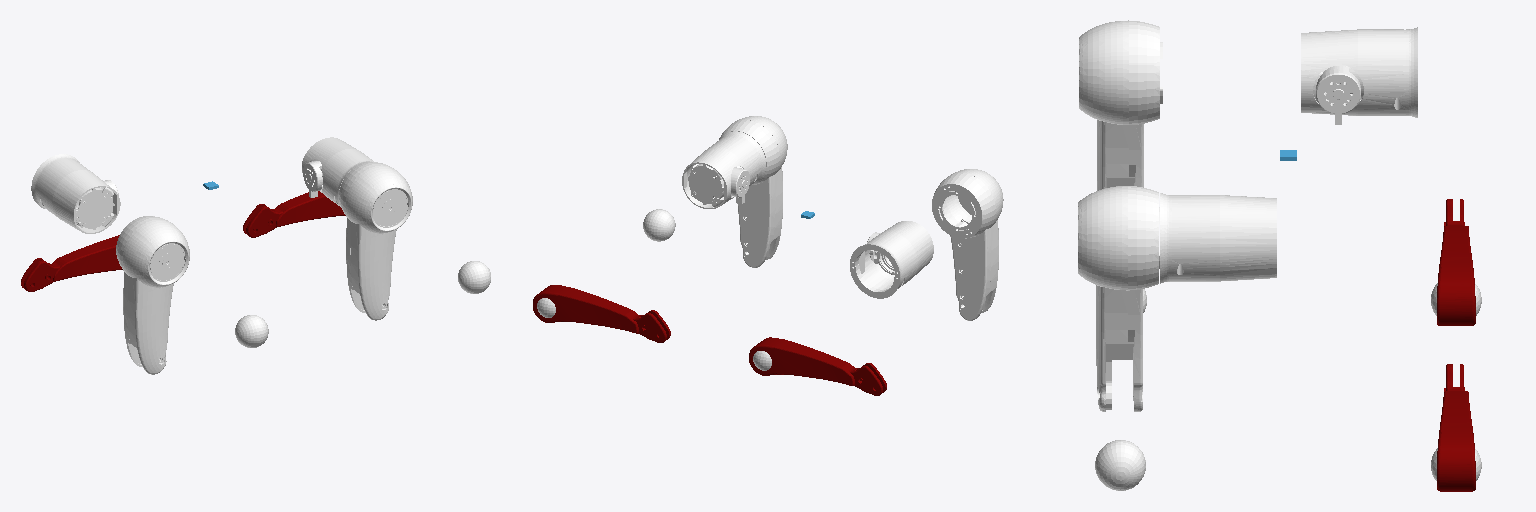
robot.urdf — robot:
<?xml version="1.0" ?>
<!-- =================================================================================== -->
<!-- |    This document was autogenerated by xacro from [local-path]/ros_ws/src/legged_control/legged_examples/legged_ngergo/legged_ngergo_description/urdf/robot.xacro | -->
<!-- |    EDITING THIS FILE BY HAND IS NOT RECOMMENDED                                 | -->
<!-- =================================================================================== -->
<robot name="robot">
  <material name="black">
    <color rgba="0.0 0.0 0.0 1.0"/>
  </material>
  <material name="blue">
    <color rgba="0.0 0.0 0.8 1.0"/>
  </material>
  <material name="green">
    <color rgba="0.0 0.8 0.0 1.0"/>
  </material>
  <material name="grey">
    <color rgba="0.2 0.2 0.2 1.0"/>
  </material>
  <material name="silver">
    <color rgba="0.9137254901960784 0.9137254901960784 0.8470588235294118 1.0"/>
  </material>
  <material name="orange">
    <color rgba="1.0 0.4235294117647059 0.0392156862745098 1.0"/>
  </material>
  <material name="brown">
    <color rgba="0.8705882352941177 0.8117647058823529 0.7647058823529411 1.0"/>
  </material>
  <material name="gold">
    <color rgba="0.94901960784 0.75294117647 0.33725490196 0.0"/> 
  </material>
  <material name="red">
  <!-- aa0505 -->
    <!--color rgba="0.66666666667 0.01960784314 0.01960784314 1.0"/-->
    <color rgba="0.54901960784 0.04705882353 0.0431372549  1.0"/>
  </material>
  <material name="white">
    <color rgba="1.0 1.0 1.0 1.0"/>
  </material>
  
  <link name="base">
    <visual>
      <origin rpy="0 0 0" xyz="0 0 0"/>
      <geometry>
        <mesh filename="../mesh_ngergo/trunk.STL" scale="1 1 1"/>
      </geometry>
      <material name="red"/>
    </visual>
    <collision>
      <origin rpy="0 0 0" xyz="0 0 0"/>
      <geometry>
        <!--box size="0.238 0.18 0.1"/-->
        <mesh filename="../mesh_ngergo/trunk.STL" scale="1 1 1"/>
      </geometry>
    </collision>
    <inertial>
      <origin rpy="0 0 0" xyz="0.03164293 0.00124456 0.03218306"/>
      <mass value="5.4752965"/>
      <inertia ixx="0.03315961" ixy="0.00041393" ixz="-0.01397597" iyy="0.08487646" iyz="0.00013335" izz="0.07401286"/>
    </inertial>
  </link>
  <!-- Imu is fixed to the base link -->
  <joint name="unitree_imu_joint" type="fixed">
    <origin rpy="0. 0. 0." xyz="0. 0. 0."/>
    <parent link="base"/>
    <child link="unitree_imu"/>
  </joint>
  <!-- Imu link -->
  <link name="unitree_imu">
    <inertial>
      <mass value="0.01"/>
      <origin rpy="0 0 0" xyz="0 0 0"/>
      <inertia ixx="0.000001" ixy="0" ixz="0" iyy="0.000001" iyz="0" izz="0.000001"/>
    </inertial>
    <visual>
      <origin rpy="0 0 0" xyz="0 0 0"/>
      <geometry>
        <box size="0.015 0.015 0.004"/>
      </geometry>
    </visual>
    <material name="orange">
      <color rgba="255 108 10 255"/>
    </material>
  </link>
  
  <joint name="FR_hip_joint" type="revolute">
    <origin rpy="0 0 0" xyz="0.17185 -0.0436 -0.0"/>
    <parent link="base"/>
    <child link="FR_hip"/>
    <axis xyz="1 0 0"/>
    <dynamics damping="0.0" friction="0.0"/>
    <limit effort="20" lower="-0.34" upper="0.34" velocity="13.25"/>
  </joint>
  <link name="FR_hip">
    <visual>
      <origin rpy="0 0 0" xyz="0 0 0"/>
      <!-- <origin rpy="${pi} 0 0" xyz="0 0 0"/> -->
      <geometry>
        <mesh filename="../mesh_ngergo/FR_hip_link.STL" scale="1 1 1"/>
      </geometry>
      <material name="white"/>
    </visual>
   
    <inertial>
      <origin rpy="0 0 0" xyz="-0.00181499 -0.00647781 -6.314e-05"/>
      <mass value="0.45381624"/>
      <inertia ixx="0.00033634" ixy="9.86e-06" ixz="-6.5e-07" iyy="0.0002604" iyz="-1.26e-06" izz="0.00036201"/>
    </inertial>
  </link>
  <joint name="FR_thigh_joint" type="revolute">
    <!-- c -->
    <!-- <origin rpy="0 0 0" xyz="0 ${thigh_offset*mirror} 0"/> -->
    <origin rpy="0 0.0 0" xyz="0 -0.1043 0"/>
    <parent link="FR_hip"/>
    <child link="FR_thigh"/>
    <!-- <axis xyz="0 -1 0"/> -->
    <axis xyz="0 1 0"/>
    <dynamics damping="0.0" friction="0.0"/>
    <limit effort="20" lower="-1" upper="2.64" velocity="13.25"/>
  </joint>
  <link name="FR_thigh">
    <visual>
      <origin rpy="0 0 0" xyz="0 0 0"/>
      <geometry>
        <mesh filename="../mesh_ngergo/FR_thigh_link.STL"  scale="1 1 1"/>
      </geometry>
      <material name="white"/>
    </visual>
    <collision>
      <origin rpy="0 1.5707963267948966 0" xyz="0 0 -0.07511"/>
      <geometry>
        <box size="0.15022 0.03 0.03"/>
      </geometry>
    </collision>
    <!-- <collision>
      <origin rpy="1.5707963267948966 0 0" xyz="0 0 0"/>
      <geometry>
        <cylinder length="0.035" radius="0.035"/>
      </geometry>
    </collision> -->
    <inertial>
      <origin rpy="0 0 0" xyz="-0.00256023 0.02066587 -0.01932269"/>
      <mass value="0.71506207"/>
      <inertia ixx="0.00189952" ixy="-4.028e-05" ixz="-0.00011453" iyy="0.00162545" iyz="-0.0002761" izz="0.00071971"/>
    </inertial>
  </link>
  <joint name="FR_calf_joint" type="revolute">
    <!-- cc -->
    <origin rpy="0 0 0" xyz="0 0 -0.15022"/>
    <parent link="FR_thigh"/>
    <child link="FR_calf"/>
    <axis xyz="0 1 0"/>
    <dynamics damping="0.0" friction="0.0"/>
    <limit effort="20" lower="-2.64" upper="-0.5" velocity="13.25"/>
  </joint>
  <link name="FR_calf">
    <visual>
      <origin rpy="0 0 0" xyz="0 0 0"/>
      <geometry>
        <mesh filename="../mesh_ngergo/FR_calf_link.STL" scale="1 1 1"/>
      </geometry>
      <material name="red"/>
    </visual>
    <collision>
      <origin rpy="0 1.5707963267948966 0" xyz="0 0 -0.074965"/>
      <geometry>
        <box size="0.14993 0.018 0.015"/>
      </geometry>
    </collision>
    <inertial>
      <origin rpy="0 0 0" xyz="0.00311164 -0.00026025 -0.0875749"/>
      <mass value="0.1160051"/>
      <inertia ixx="0.00036493" ixy="-6e-08" ixz="7.1e-07" iyy="0.00036973" iyz="2.97e-06" izz="2.582e-05"/>
    </inertial>
  </link>
  <joint name="FR_foot_fixed" type="fixed" dont_collapse="true">
    <origin rpy="0 0 0" xyz="0 0 -0.14993"/>
    <parent link="FR_calf"/>
    <child link="FR_foot"/>
  </joint>
  <link name="FR_foot">
    <visual>
      <origin rpy="0 0 0" xyz="0 0 0"/>
      <geometry>
        <sphere radius="0.02249"/>
        <!-- <mesh filename="package://legged_newgo_description/meshes/$(arg robot_type)/FL_toe_link.STL" scale="1 1 1"/> -->
      </geometry>
      <material name="white"/>
    </visual>
    <collision>
      <origin rpy="0 0 0" xyz="0 0 0"/>
      <geometry>
        <sphere radius="0.02249"/>
      </geometry>
    </collision>
    <inertial>
      <mass value="0.05"/>
      <inertia ixx="1.0116002e-05" ixy="0.0" ixz="0.0" iyy="1.0116002e-05" iyz="0.0" izz="1.0116002e-05"/>
    </inertial>
  </link>
  
  <joint name="FL_hip_joint" type="revolute">
    <origin rpy="0 0 0" xyz="0.17185 0.0436 -0.0"/>
    <parent link="base"/>
    <child link="FL_hip"/>
    <axis xyz="1 0 0"/>
    <dynamics damping="0.0" friction="0.0"/>
    <limit effort="20" lower="-0.34" upper="0.34" velocity="13.25"/>
  </joint>
  <link name="FL_hip">
    <visual>
      <origin rpy="0 0 0" xyz="0 0 0"/>
      <geometry>
        <mesh filename="../mesh_ngergo/FL_hip_link.STL" scale="1 1 1"/>
      </geometry>
      <material name="white"/>
    </visual>
    
    <inertial>
      <origin rpy="0 0 0" xyz="-0.00181499 0.00647781 -6.314e-05"/>
      <mass value="0.45381624"/>
      <inertia ixx="0.00033634" ixy="-9.86e-06" ixz="-6.5e-07" iyy="0.0002604" iyz="1.26e-06" izz="0.00036201"/>
    </inertial>
  </link>
  <joint name="FL_thigh_joint" type="revolute">
    <!-- c -->
    <!-- <origin rpy="0 0 0" xyz="0 ${thigh_offset*mirror} 0"/> -->
    <origin rpy="0 0.0 0" xyz="0 0.1034 0"/>
    <parent link="FL_hip"/>
    <child link="FL_thigh"/>
    <!-- <axis xyz="0 -1 0"/> -->
    <axis xyz="0 1 0"/>
    <dynamics damping="0.0" friction="0.0"/>
    <limit effort="20" lower="-1" upper="2.64" velocity="13.25"/>
  </joint>
  <link name="FL_thigh">
    <visual>
      <origin rpy="0 0 0" xyz="0 0 0"/>
      <geometry>
        <mesh filename="../mesh_ngergo/FL_thigh_link.STL" scale="1 1 1"/>
      </geometry>
      <material name="white"/>
    </visual>
    <collision>
      <origin rpy="0 1.5707963267948966 0" xyz="0 0 -0.07511"/>
      <geometry>
        <box size="0.15022 0.03 0.03"/>
      </geometry>
    </collision>
    
    <inertial>
      <origin rpy="0 0 0" xyz="-0.00256023 -0.02066587 -0.01932269"/>
      <mass value="0.71506207"/>
      <inertia ixx="0.00189952" ixy="4.028e-05" ixz="-0.00011453" iyy="0.00162545" iyz="0.0002761" izz="0.00071971"/>
    </inertial>
  </link>
  <joint name="FL_calf_joint" type="revolute">
    <!-- cc -->
    <origin rpy="0 0 0" xyz="0 0 -0.15022"/>
    <parent link="FL_thigh"/>
    <child link="FL_calf"/>
    <axis xyz="0 1 0"/>
    <dynamics damping="0.0" friction="0.0"/>
    <limit effort="20" lower="-2.64" upper="-0.5" velocity="13.25"/>
  </joint>
  <link name="FL_calf">
    <visual>
      <origin rpy="0 0 0" xyz="0 0 0"/>
      <geometry>
        <mesh filename="../mesh_ngergo/FL_calf_link.STL" scale="1 1 1"/>
      </geometry>
      <material name="red"/>
    </visual>
    <collision>
      <origin rpy="0 1.5707963267948966 0" xyz="0 0 -0.074965"/>
      <geometry>
        <box size="0.14993 0.018 0.015"/>
      </geometry>
    </collision>
    <inertial>
      <origin rpy="0 0 0" xyz="0.00311164 -0.00026025 -0.0875749"/>
      <mass value="0.1160051"/>
      <inertia ixx="0.00036493" ixy="-6e-08" ixz="7.1e-07" iyy="0.00036973" iyz="2.97e-06" izz="2.582e-05"/>
    </inertial>
  </link>
  <joint name="FL_foot_fixed" type="fixed" dont_collapse="true">
    <origin rpy="0 0 0" xyz="0 0 -0.14993"/>
    <parent link="FL_calf"/>
    <child link="FL_foot"/>
  </joint>
  <link name="FL_foot">
    <visual>
      <origin rpy="0 0 0" xyz="0 0 0"/>
      <geometry>
        <sphere radius="0.02249"/>
        <!-- <mesh filename="package://legged_ngergo_description/meshes/$(arg robot_type)/FL_toe_link.STL" scale="1 1 1"/> -->
      </geometry>
      <material name="white"/>
    </visual>
    <collision>
      <origin rpy="0 0 0" xyz="0 0 0"/>
      <geometry>
        <sphere radius="0.02249"/>
      </geometry>
    </collision>
    
    <inertial>
      <mass value="0.05"/>
      <inertia ixx="1.0116002e-05" ixy="0.0" ixz="0.0" iyy="1.0116002e-05" iyz="0.0" izz="1.0116002e-05"/>
    </inertial>
  </link>
  
  
  <joint name="RR_hip_joint" type="revolute">
    <origin rpy="0 0 0" xyz="-0.17185 -0.0436 -0.0"/>
    <parent link="base"/>
    <child link="RR_hip"/>
    <axis xyz="1 0 0"/>
    <dynamics damping="0.0" friction="0.0"/>
    <limit effort="20" lower="-0.34" upper="0.34" velocity="13.25"/>
  </joint>
  <link name="RR_hip">
    <visual>
      <origin rpy="0 0 3.141592653589793" xyz="0 0 0"/>
      <!-- <origin rpy="${pi} ${pi} 0" xyz="0 0 0"/> -->
      <geometry>
        <mesh filename="../mesh_ngergo/FL_hip_link.STL" scale="1 1 1"/>
      </geometry>
      <material name="white"/>
    </visual>
    
    <inertial>
      <origin rpy="0 0 0" xyz="0.00181499 -0.00647781 -6.314e-05"/>
      <mass value="0.45381624"/>
      <inertia ixx="0.00033634" ixy="-9.86e-06" ixz="6.5e-07" iyy="0.0002604" iyz="-1.26e-06" izz="0.00036201"/>
    </inertial>
  </link>
  <joint name="RR_thigh_joint" type="revolute">
    <!-- c -->
    <!-- <origin rpy="0 0 0" xyz="0 ${thigh_offset*mirror} 0"/> -->
    <origin rpy="0 0.0 0" xyz="0 -0.1034 0"/>
    <parent link="RR_hip"/>
    <child link="RR_thigh"/>
    <!-- <axis xyz="0 -1 0"/> -->
    <axis xyz="0 1 0"/>
    <dynamics damping="0.0" friction="0.0"/>
    <limit effort="20" lower="-1" upper="2.64" velocity="13.25"/>
  </joint>
  <link name="RR_thigh">
    <visual>
      <origin rpy="0 0 0" xyz="0 0 0"/>
      <geometry>
        <mesh filename="../mesh_ngergo/FR_thigh_link.STL" scale="1 1 1"/>
      </geometry>
      <material name="white"/>
    </visual>
    <collision>
      <origin rpy="0 1.5707963267948966 0" xyz="0 0 -0.07511"/>
      <!-- <origin rpy="0 ${pi/2.0+0.1} 0" xyz="0 0 ${-thigh_length/2.0}"/> -->
      <geometry>
        <box size="0.15022 0.03 0.03"/>
      </geometry>
    </collision>
    
    <inertial>
      <origin rpy="0 0 0" xyz="-0.00256023 0.02066587 -0.01932269"/>
      <mass value="0.71506207"/>
      <inertia ixx="0.00189952" ixy="-4.028e-05" ixz="-0.00011453" iyy="0.00162545" iyz="-0.0002761" izz="0.00071971"/>
    </inertial>
  </link>
  <joint name="RR_calf_joint" type="revolute">
    <!-- cc -->
    <origin rpy="0 0 0" xyz="0 0 -0.15022"/>
    <parent link="RR_thigh"/>
    <child link="RR_calf"/>
    <axis xyz="0 1 0"/>
    <dynamics damping="0.0" friction="0.0"/>
    <limit effort="20" lower="-2.64" upper="-0.5" velocity="13.25"/>
  </joint>
  <link name="RR_calf">
    <visual>
      <origin rpy="0 0 0" xyz="0 0 0"/>
      <geometry>
        <mesh filename="../mesh_ngergo/FR_calf_link.STL" scale="1 1 1"/>
      </geometry>
      <material name="red"/>
    </visual>
    <collision>
      <origin rpy="0 1.5707963267948966 0" xyz="0 0 -0.074965"/>
      <geometry>
        <box size="0.14993 0.018 0.015"/>
      </geometry>
    </collision>
    <inertial>
      <origin rpy="0 0 0" xyz="0.00311164 -0.00026025 -0.0875749"/>
      <mass value="0.1160051"/>
      <inertia ixx="0.00036493" ixy="-6e-08" ixz="7.1e-07" iyy="0.00036973" iyz="2.97e-06" izz="2.582e-05"/>
    </inertial>
  </link>
  <joint name="RR_foot_fixed" type="fixed" dont_collapse="true">
    <origin rpy="0 0 0" xyz="0 0 -0.14993"/>
    <parent link="RR_calf"/>
    <child link="RR_foot"/>
  </joint>
  <link name="RR_foot">
    <visual>
      <origin rpy="0 0 0" xyz="0 0 0"/>
      <geometry>
        <sphere radius="0.02249"/>
        <!-- <mesh filename="package://legged_ngergo_description/meshes/$(arg robot_type)/FL_toe_link.STL" scale="1 1 1"/> -->
      </geometry>
      <material name="white"/>
    </visual>
    <collision>
      <origin rpy="0 0 0" xyz="0 0 0"/>
      <geometry>
        <sphere radius="0.02249"/>
      </geometry>
    </collision>
    <inertial>
      <mass value="0.05"/>
      <inertia ixx="1.0116002e-05" ixy="0.0" ixz="0.0" iyy="1.0116002e-05" iyz="0.0" izz="1.0116002e-05"/>
    </inertial>
  </link>
  
  <joint name="RL_hip_joint" type="revolute">
    <origin rpy="0 0 0" xyz="-0.17185 0.0436 -0.0"/>
    <parent link="base"/>
    <child link="RL_hip"/>
    <axis xyz="1 0 0"/>
    <dynamics damping="0.0" friction="0.0"/>
    <limit effort="20" lower="-0.34" upper="0.34" velocity="13.25"/>
  </joint>
  <link name="RL_hip">
    <visual>
      <origin rpy="0 0 3.141592653589793" xyz="0 0 0"/>
      <!-- <origin rpy="0 ${pi} 0" xyz="0 0 0"/> -->
      <geometry>
        <mesh filename="../mesh_ngergo/FR_hip_link.STL" scale="1 1 1"/>
      </geometry>
      <material name="white"/>
    </visual>
    
    <inertial>
      <origin rpy="0 0 0" xyz="0.00181499 0.00647781 -6.314e-05"/>
      <mass value="0.45381624"/>
      <inertia ixx="0.00033634" ixy="9.86e-06" ixz="6.5e-07" iyy="0.0002604" iyz="1.26e-06" izz="0.00036201"/>
    </inertial>
  </link>
  <joint name="RL_thigh_joint" type="revolute">
    <!-- c -->
    <!-- <origin rpy="0 0 0" xyz="0 ${thigh_offset*mirror} 0"/> -->
    <origin rpy="0 0.0 0" xyz="0 0.1034 0"/>
    <parent link="RL_hip"/>
    <child link="RL_thigh"/>
    <!-- <axis xyz="0 -1 0"/> -->
    <axis xyz="0 1 0"/>
    <dynamics damping="0.0" friction="0.0"/>
    <limit effort="20" lower="-1" upper="2.64" velocity="13.25"/>
  </joint>
  <link name="RL_thigh">
    <visual>
      <origin rpy="0 0 0" xyz="0 0 0"/>
      <geometry>
        <mesh filename="../mesh_ngergo/FL_thigh_link.STL" scale="1 1 1"/>
      </geometry>
      <material name="white"/>
    </visual>
    <collision>
      <origin rpy="0 1.5707963267948966 0" xyz="0 0 -0.07511"/>
      <geometry>
        <box size="0.15022 0.03 0.03"/>
      </geometry>
    </collision>
    
    <inertial>
      <origin rpy="0 0 0" xyz="-0.00256023 -0.02066587 -0.01932269"/>
      <mass value="0.71506207"/>
      <inertia ixx="0.00189952" ixy="4.028e-05" ixz="-0.00011453" iyy="0.00162545" iyz="0.0002761" izz="0.00071971"/>
    </inertial>
  </link>
  <joint name="RL_calf_joint" type="revolute">
    <!-- cc -->
    <origin rpy="0 0 0" xyz="0 0 -0.15022"/>
    <parent link="RL_thigh"/>
    <child link="RL_calf"/>
    <axis xyz="0 1 0"/>
    <dynamics damping="0.0" friction="0.0"/>
    <limit effort="20" lower="-2.64" upper="-0.5" velocity="13.25"/>
  </joint>
  <link name="RL_calf">
    <visual>
      <origin rpy="0 0 0" xyz="0 0 0"/>
      <geometry>
        <mesh filename="../mesh_ngergo/FL_calf_link.STL" scale="1 1 1"/>
      </geometry>
      <material name="red"/>
    </visual>
    <collision>
      <origin rpy="0 1.5707963267948966 0" xyz="0 0 -0.074965"/>
      <geometry>
        <box size="0.14993 0.018 0.015"/>
      </geometry>
    </collision>
    <inertial>
      <origin rpy="0 0 0" xyz="0.00311164 -0.00026025 -0.0875749"/>
      <mass value="0.1160051"/>
      <inertia ixx="0.00036493" ixy="-6e-08" ixz="7.1e-07" iyy="0.00036973" iyz="2.97e-06" izz="2.582e-05"/>
    </inertial>
  </link>
  <joint name="RL_foot_fixed" type="fixed" dont_collapse="true">
    <origin rpy="0 0 0" xyz="0 0 -0.14993"/>
    <parent link="RL_calf"/>
    <child link="RL_foot"/>
  </joint>
  <link name="RL_foot">
    <visual>
      <origin rpy="0 0 0" xyz="0 0 0"/>
      <geometry>
        <sphere radius="0.02249"/>
        <!-- <mesh filename="package://legged_ngergo_description/meshes/$(arg robot_type)/FL_toe_link.STL" scale="1 1 1"/> -->
      </geometry>
      <material name="white"/>
    </visual>
    <collision>
      <origin rpy="0 0 0" xyz="0 0 0"/>
      <geometry>
        <sphere radius="0.02249"/>
      </geometry>
    </collision>
    
    <inertial>
      <mass value="0.05"/>
      <inertia ixx="1.0116002e-05" ixy="0.0" ixz="0.0" iyy="1.0116002e-05" iyz="0.0" izz="1.0116002e-05"/>
    </inertial>
  </link>
  
</robot>

--- Render facts (derived) ---
Views: 3 orthographic renders of the robot side by side, from view 1: azimuth 30°, elevation 25°; view 2: azimuth 150°, elevation 25°; view 3: azimuth 270°, elevation 25°.
Model robot with 18 links and 17 joints (12 revolute, 5 fixed), rooted at base, posed all joints at 0 but 4 set to mid-range because 0 is outside their limits (FR_calf_joint = -1.57, FL_calf_joint = -1.57, RR_calf_joint = -1.57, RL_calf_joint = -1.57).
Links seen in each view (by area): view 1: RR_thigh, FR_thigh, RL_hip, FR_hip, RL_calf, FL_calf, RR_foot, FR_foot; view 2: RR_thigh, FR_thigh, FR_hip, RL_hip, RL_calf, FL_calf, FR_foot; view 3: FR_thigh, RR_thigh, RL_hip, FR_hip, FL_calf, RL_calf, FR_foot.
Link boxes in pixels (bbox=[...]): RR_thigh: bbox=[116, 216, 189, 374]; FR_thigh: bbox=[339, 162, 412, 320]; RL_hip: bbox=[31, 154, 120, 233]; FR_hip: bbox=[302, 137, 373, 206]; RL_calf: bbox=[21, 235, 122, 291]; FL_calf: bbox=[243, 191, 345, 237]; RR_foot: bbox=[235, 315, 268, 347]; FR_foot: bbox=[458, 261, 490, 293]; RR_thigh: bbox=[932, 169, 1003, 320]; FR_thigh: bbox=[719, 116, 787, 267]; FR_hip: bbox=[682, 131, 765, 208]; RL_hip: bbox=[850, 221, 933, 298]; RL_calf: bbox=[749, 337, 886, 395]; FL_calf: bbox=[533, 285, 670, 342]; FR_foot: bbox=[643, 209, 675, 241]; FR_thigh: bbox=[1078, 186, 1159, 411]; RR_thigh: bbox=[1079, 20, 1162, 190]; RL_hip: bbox=[1301, 27, 1417, 124]; FR_hip: bbox=[1160, 193, 1276, 283]; FL_calf: bbox=[1437, 364, 1475, 491]; RL_calf: bbox=[1437, 199, 1475, 325]; FR_foot: bbox=[1095, 440, 1145, 490].
Size in the robot's own frame: 0.5623 by 0.3547 by 0.2195 metres.
6 mesh visuals loaded from 7 distinct referenced files (3 binary STL); not drawn: 7 (reference not matched to a file when rendering).
